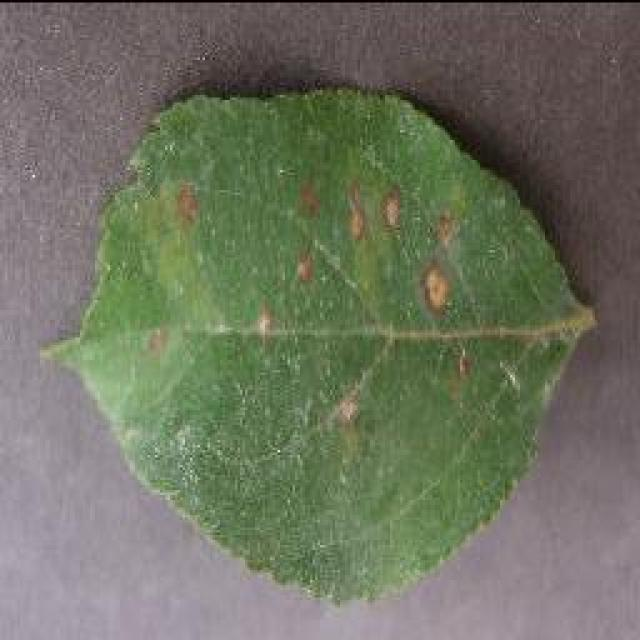apple rust disease: (38, 80, 598, 605)
